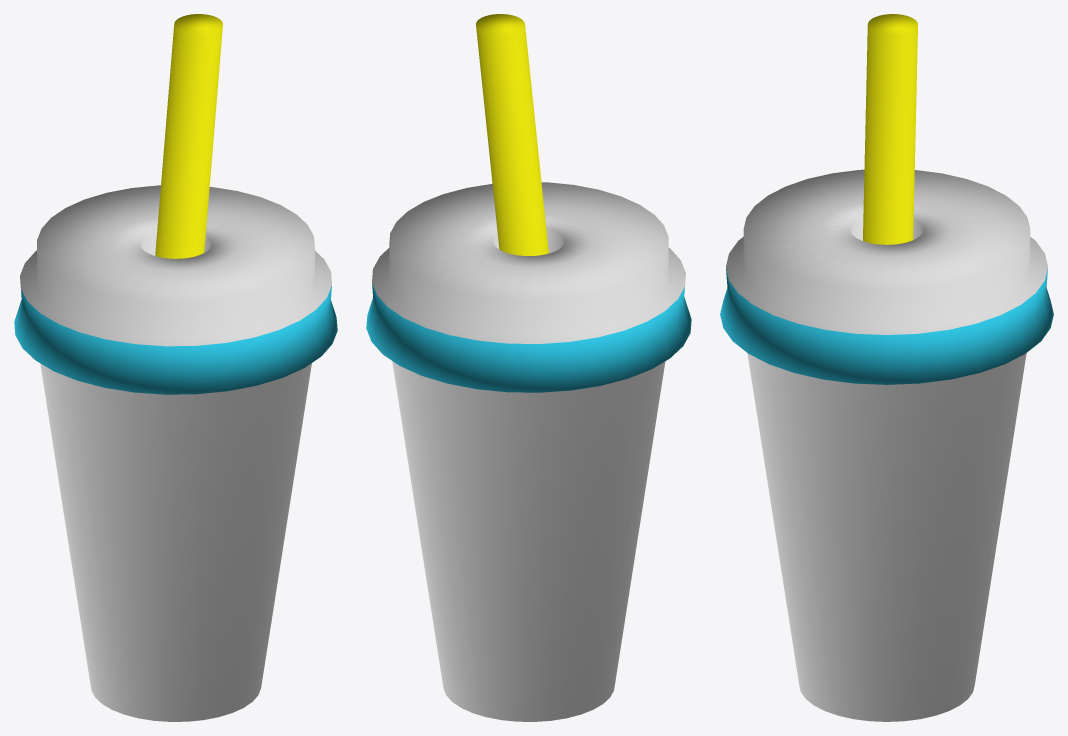
File: Bucks.fbx
The picture shows the model from 3 angles, left to right: view 1: azimuth 30°, elevation 25°; view 2: azimuth 150°, elevation 25°; view 3: azimuth 270°, elevation 25°; orthographic projection. The views are drawn at different scales.
Visible parts, largest first — view 1: Bucks; view 2: Bucks; view 3: Bucks.
Part boxes in pixels (<box>): Bucks: <box>14,14,337,721</box>; Bucks: <box>366,14,691,721</box>; Bucks: <box>720,14,1053,721</box>.
Size of the model in its own units: 0.1916 by 0.4261 by 0.1916.
